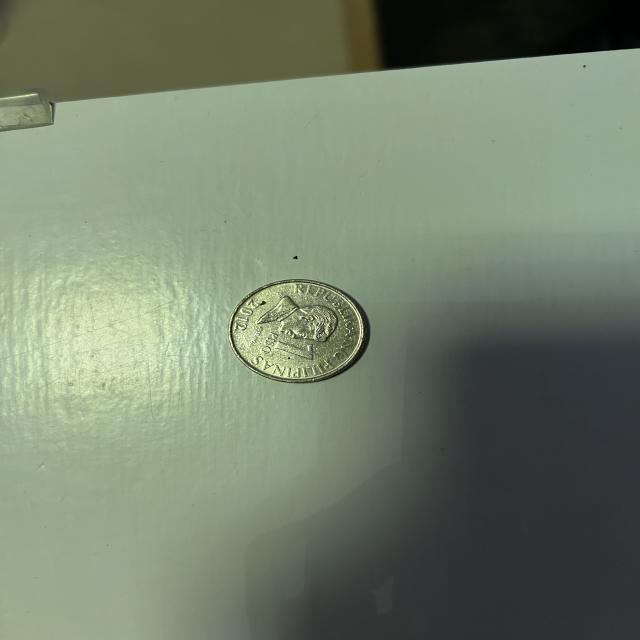1_Old_Front: (257, 328, 318, 371)
